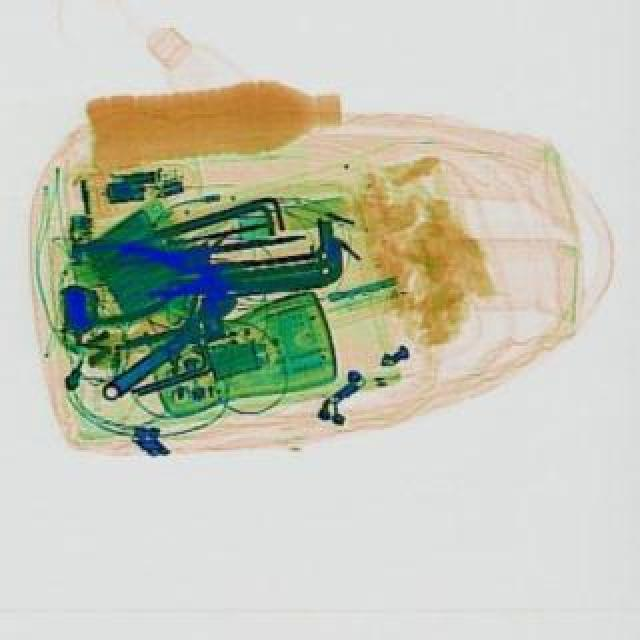scissors: (94, 286, 254, 418)
wrench: (74, 232, 232, 334)
